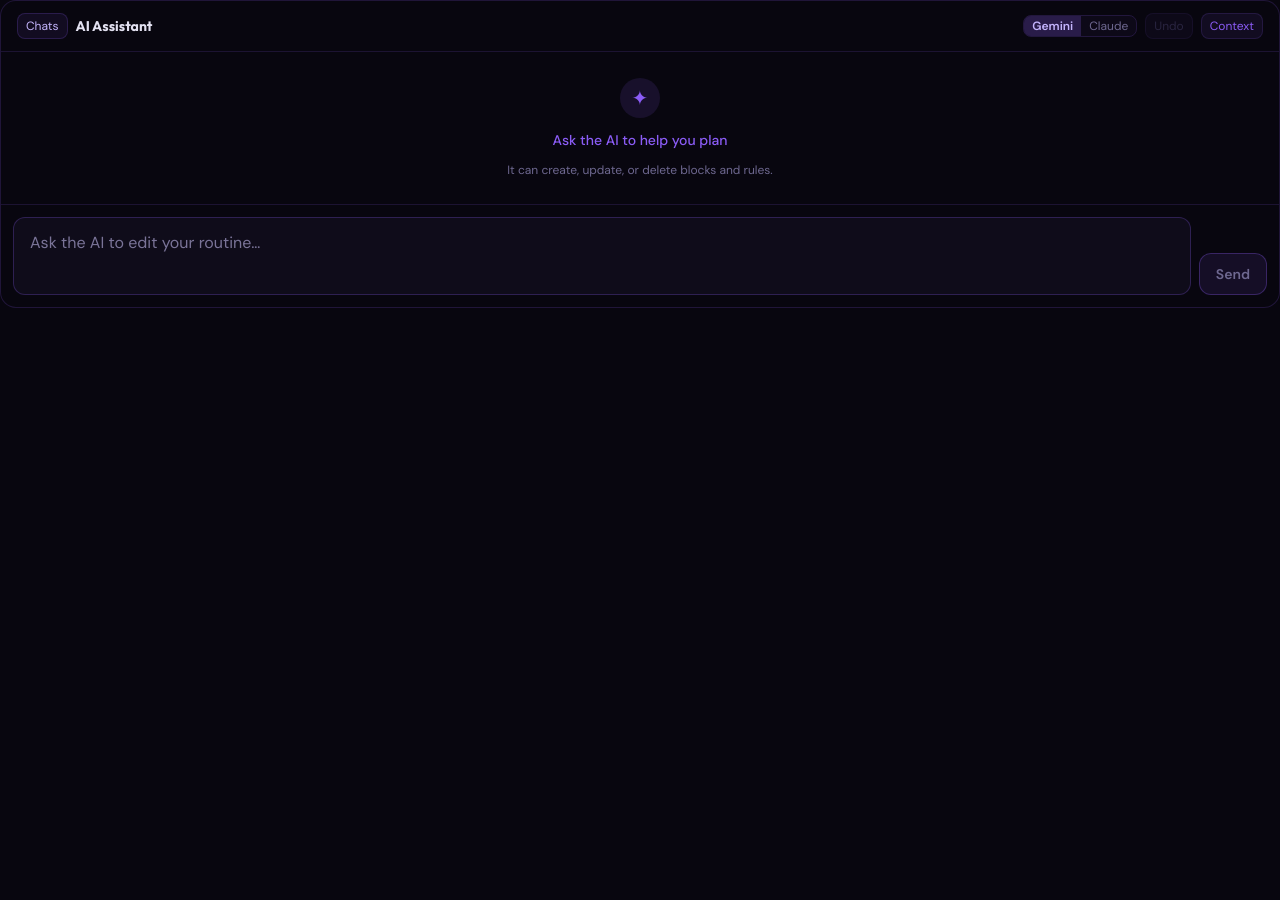
Scenario: ChatPanel › opens the planner context editor when Context button is clicked
Click the button with aria-label "edit planner context".
click(1232, 26)  # box [1201,13,1263,39]
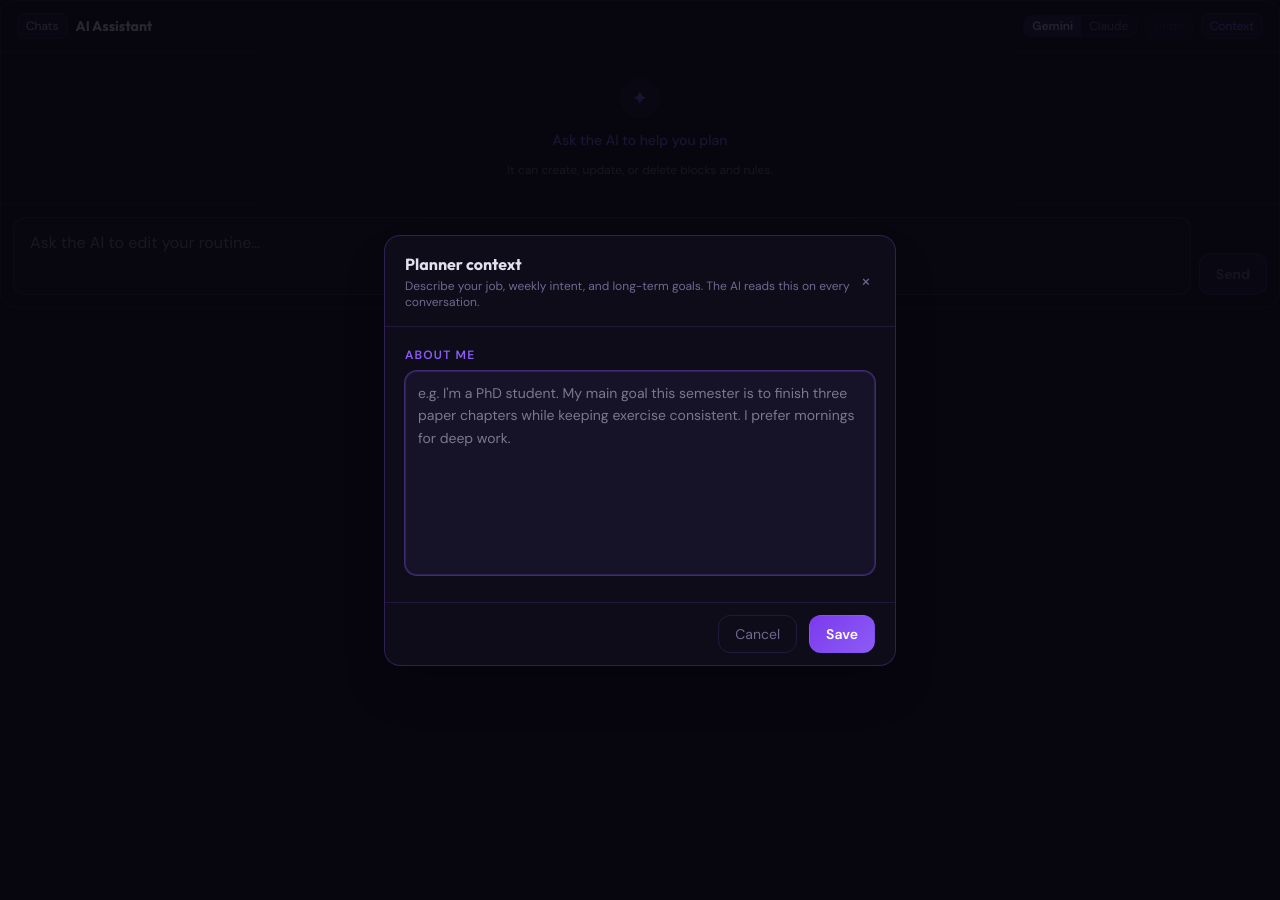
Check: the dialog named "edit planner context" is shown
